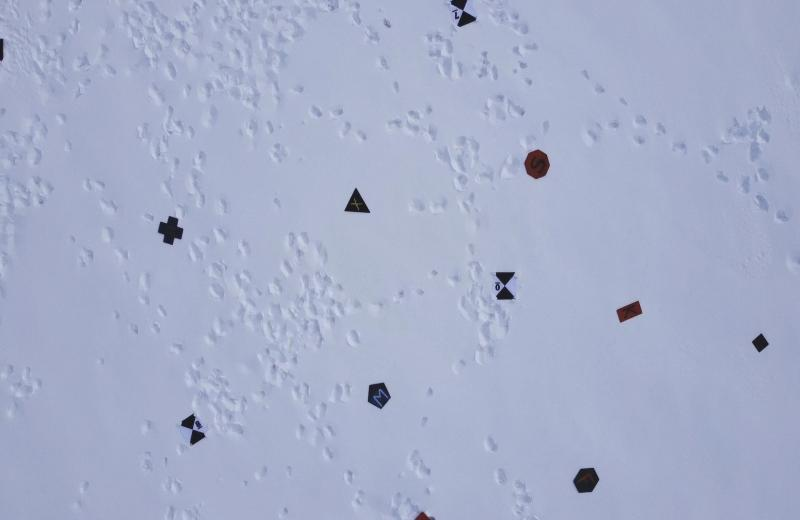Cross: (155, 215, 187, 249)
Hexagon: (573, 461, 603, 498)
Octagon: (522, 142, 552, 179)
Pentagon: (364, 378, 394, 412)
Rectangle: (612, 295, 643, 329)
Square: (751, 334, 775, 358)
Triangle: (343, 188, 376, 221)
